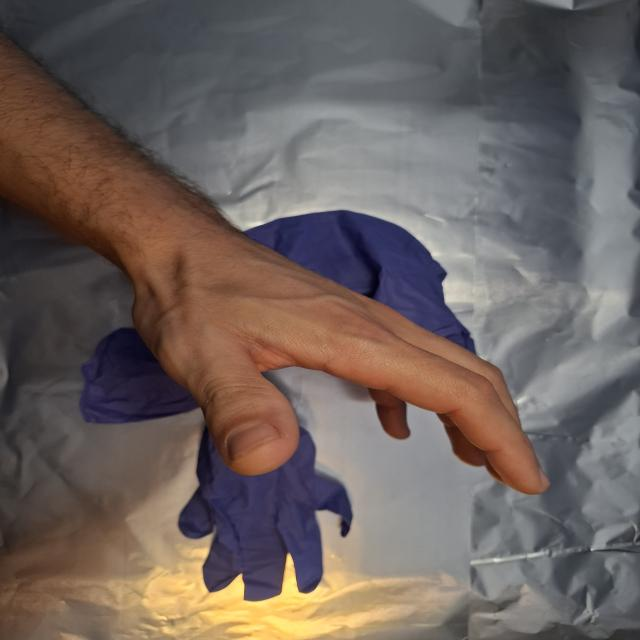glove_off: (127, 220, 554, 497)
